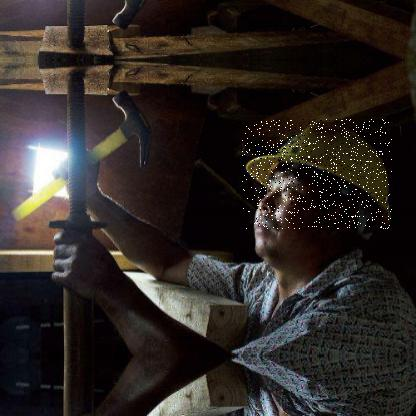safetyhelmet: (242, 119, 393, 230)
